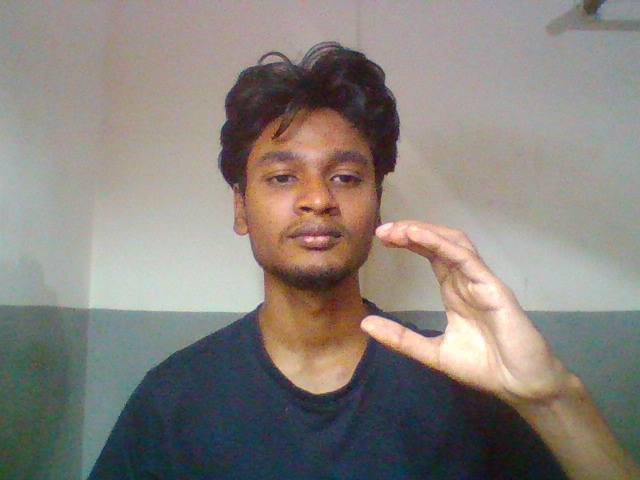C: (338, 204, 586, 423)
